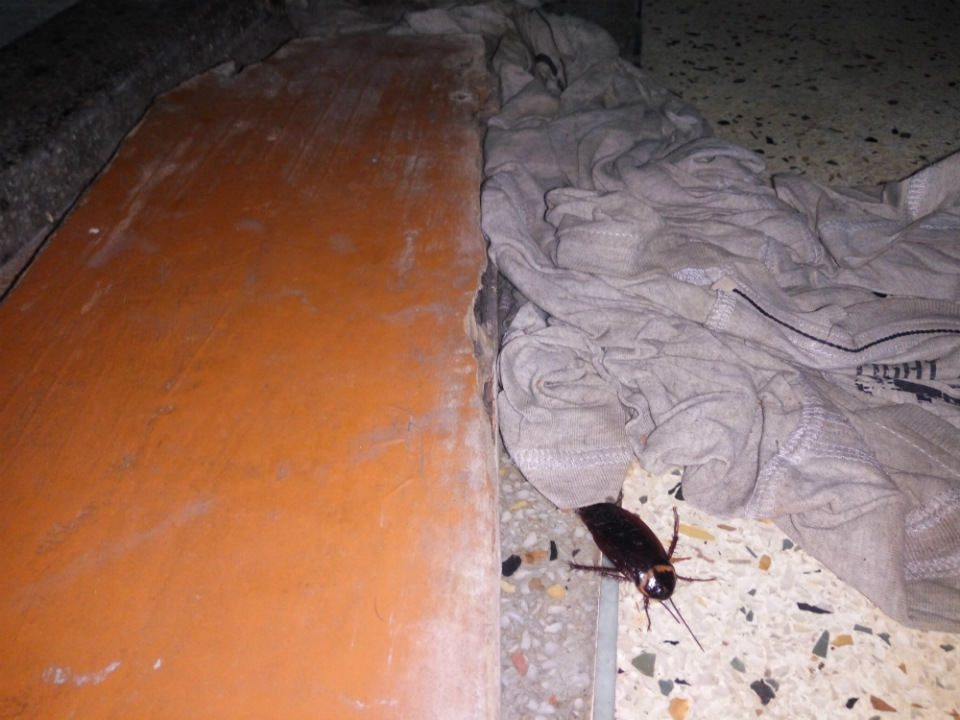cockroach: (482, 456, 727, 618)
